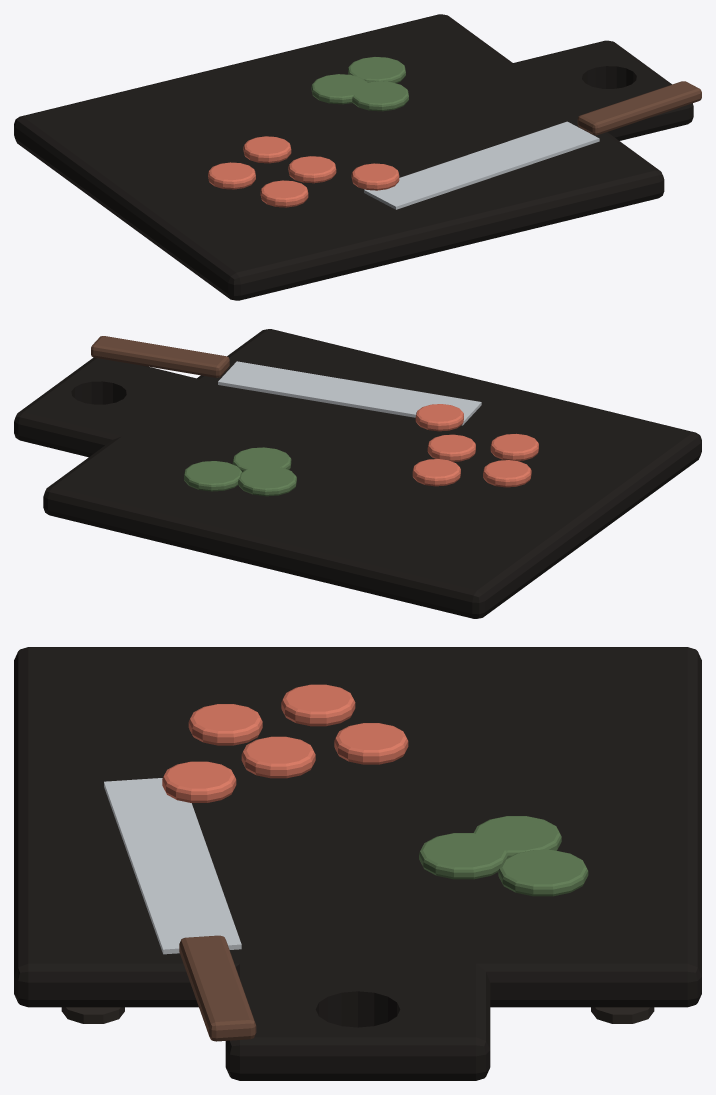
Rendered from hh_cat_chopping_board.glb.
The picture shows the model from 3 angles, top to bottom: view 1: azimuth 30°, elevation 25°; view 2: azimuth 150°, elevation 25°; view 3: azimuth 270°, elevation 25°; orthographic projection. The views are drawn at different scales.
Parts seen in each view (by area): view 1: board, board_handle, knife_blade, knife_handle, cucumber_slice.002, cucumber_slice, cucumber_slice.001, carrot_coin, carrot_coin.004, carrot_coin.003, carrot_coin.002, carrot_coin.001; view 2: board, board_handle, knife_blade, knife_handle, cucumber_slice, cucumber_slice.001, carrot_coin.002, carrot_coin.003, carrot_coin.004, carrot_coin, carrot_coin.001, cucumber_slice.002; view 3: board, board_handle, knife_blade, knife_handle, cucumber_slice.001, cucumber_slice.002, carrot_coin.002, carrot_coin.001, carrot_coin.004, carrot_coin, carrot_coin.003, cucumber_slice (+2 smaller).
Boxes of the visible parts, x1,y1,x2,y2 form: board: [14, 14, 664, 300]; board_handle: [505, 40, 693, 140]; knife_blade: [364, 121, 599, 209]; knife_handle: [577, 81, 701, 135]; cucumber_slice.002: [352, 81, 408, 111]; cucumber_slice: [311, 74, 367, 104]; cucumber_slice.001: [348, 57, 405, 83]; carrot_coin: [260, 180, 308, 207]; carrot_coin.004: [351, 163, 399, 190]; carrot_coin.003: [243, 136, 291, 163]; carrot_coin.002: [208, 162, 255, 189]; carrot_coin.001: [288, 156, 336, 183]; board: [43, 329, 701, 618]; board_handle: [14, 357, 204, 457]; knife_blade: [218, 361, 481, 425]; knife_handle: [91, 336, 229, 377]; cucumber_slice: [238, 465, 296, 496]; cucumber_slice.001: [184, 461, 241, 491]; carrot_coin.002: [483, 460, 531, 487]; carrot_coin.003: [412, 459, 460, 486]; carrot_coin.004: [415, 404, 463, 431]; carrot_coin: [490, 433, 538, 460]; carrot_coin.001: [427, 434, 475, 461]; cucumber_slice.002: [232, 447, 291, 471]; board: [14, 647, 701, 1007]; board_handle: [225, 959, 490, 1080]; knife_blade: [104, 778, 241, 954]; knife_handle: [179, 935, 256, 1041]; cucumber_slice.001: [498, 850, 588, 896]; cucumber_slice.002: [419, 833, 507, 879]; carrot_coin.002: [281, 684, 355, 726]; carrot_coin.001: [241, 736, 315, 778]; carrot_coin.004: [162, 761, 236, 802]; carrot_coin: [188, 704, 262, 745]; carrot_coin.003: [334, 723, 408, 764]; cucumber_slice: [474, 816, 561, 857].
Bounding box in the file's own units: 0.36 × 0.03 × 0.26.
